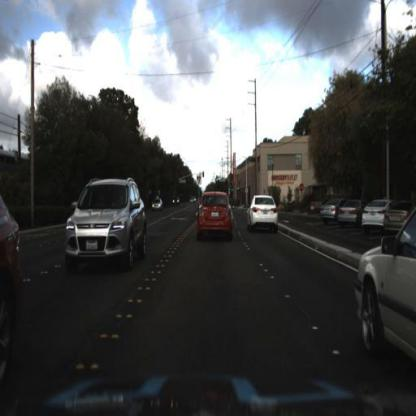car: (350, 190, 415, 376), (59, 176, 149, 274), (0, 182, 24, 387), (189, 183, 237, 243), (242, 186, 286, 234), (337, 200, 361, 226), (317, 198, 337, 224), (147, 194, 163, 216), (168, 191, 180, 209)
